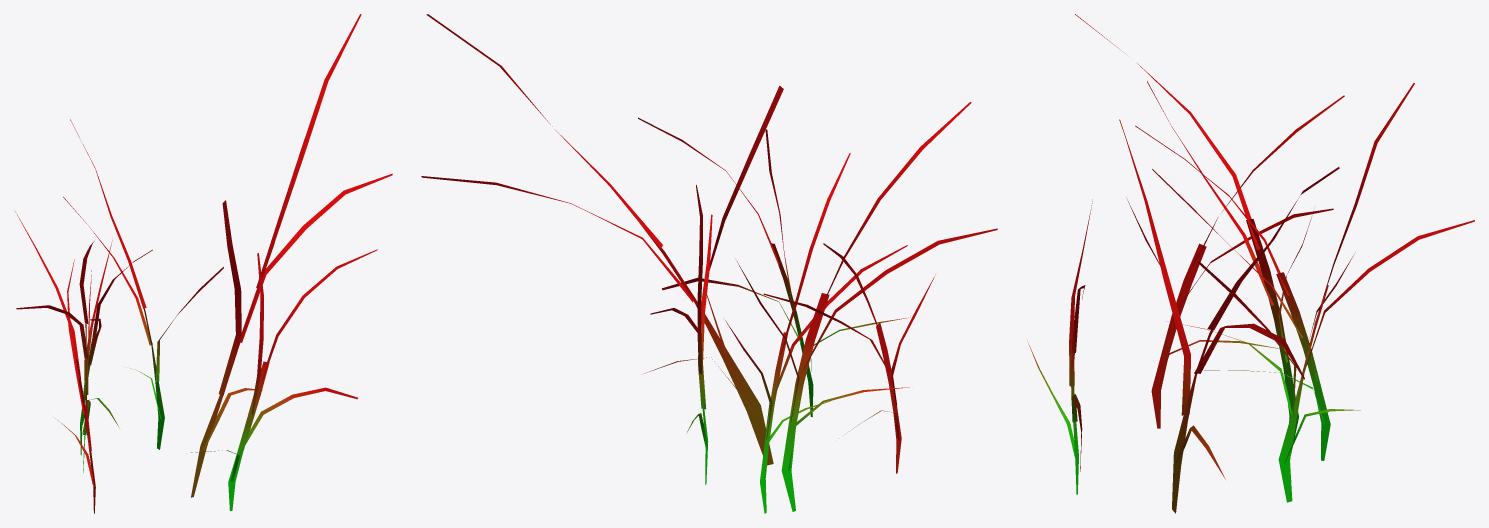
File: Kikuyu Grass_LOD3_Var16_wiljearqx.fbx
The picture shows the model from 3 angles, left to right: view 1: azimuth 30°, elevation 25°; view 2: azimuth 150°, elevation 25°; view 3: azimuth 270°, elevation 25°; orthographic projection. The views are drawn at different scales.
Visible parts, largest first — view 1: _mdjr_Var16_LOD3; view 2: _mdjr_Var16_LOD3; view 3: _mdjr_Var16_LOD3.
Part boxes in pixels (x1=…): _mdjr_Var16_LOD3: x1=15, y1=14, x2=392, y2=513; _mdjr_Var16_LOD3: x1=421, y1=14, x2=997, y2=513; _mdjr_Var16_LOD3: x1=1027, y1=14, x2=1474, y2=513.
Size of the model in its own units: 18.98 by 15.78 by 13.04.
